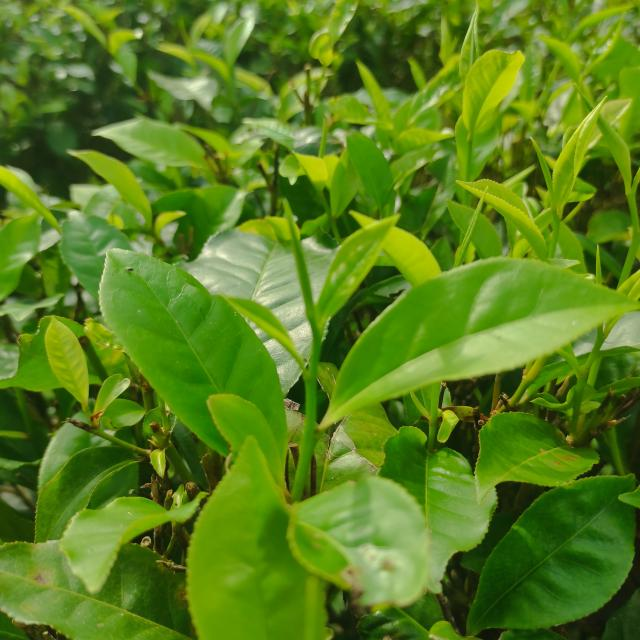unopened_leaf: (280, 191, 324, 344), (452, 180, 495, 270), (522, 132, 562, 218), (589, 233, 606, 286)
